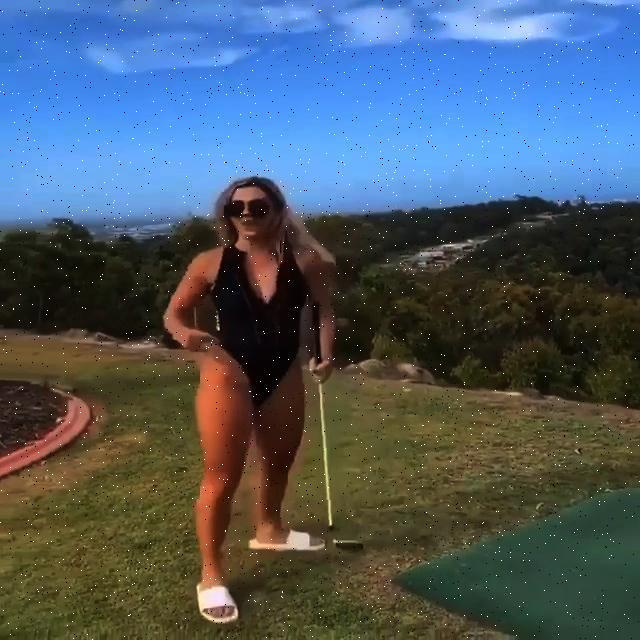ClubHead: (332, 540, 365, 550)
